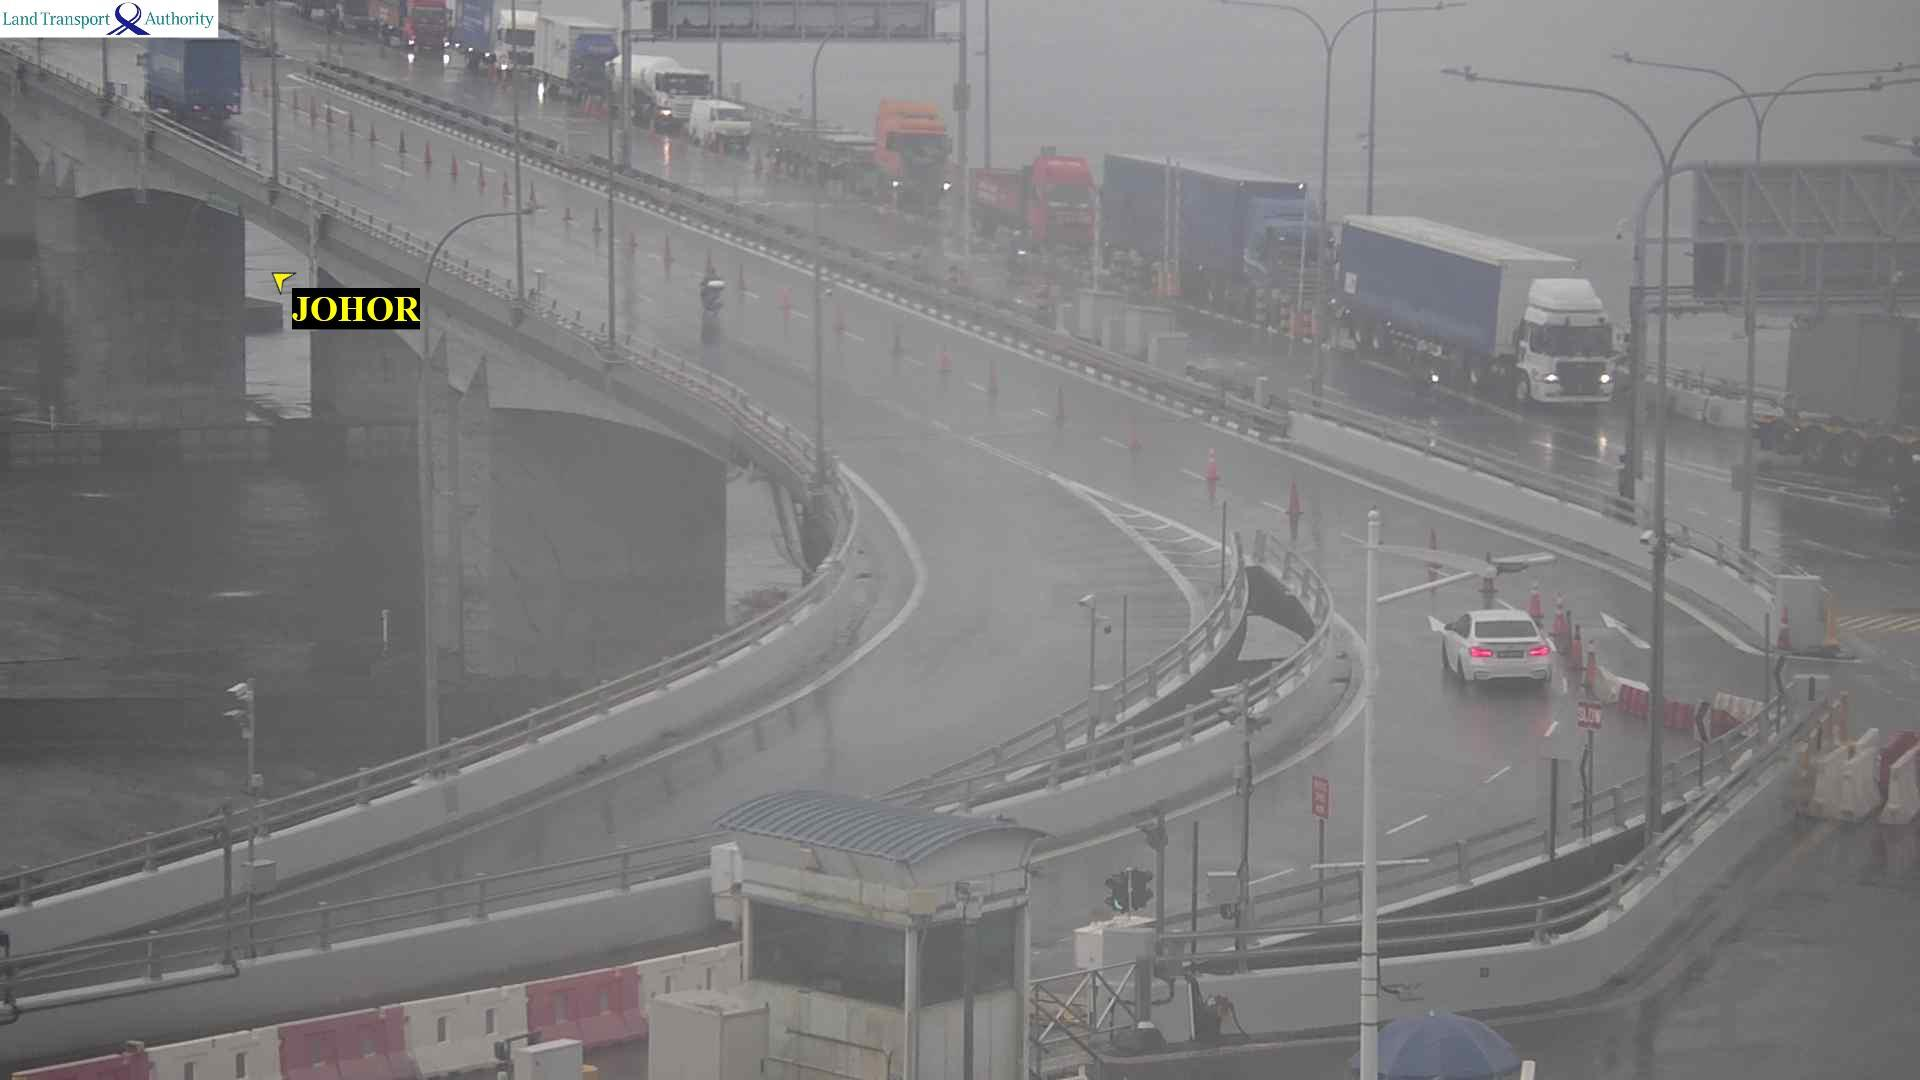vehicle-causeway-singapore: (1444, 601, 1559, 687)
vehicle-secondlink-johor: (145, 34, 240, 116), (700, 268, 724, 311)
vehicle-secondlink-singapore: (1006, 153, 1320, 282), (1350, 224, 1618, 369), (1787, 302, 1920, 492), (785, 98, 952, 210), (976, 150, 1095, 243), (609, 57, 712, 120), (452, 0, 533, 78), (534, 22, 620, 92), (371, 0, 446, 54), (690, 105, 750, 142)
